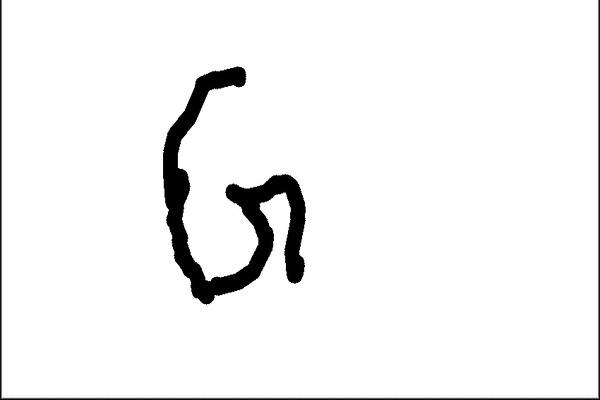G: (156, 64, 313, 307)
